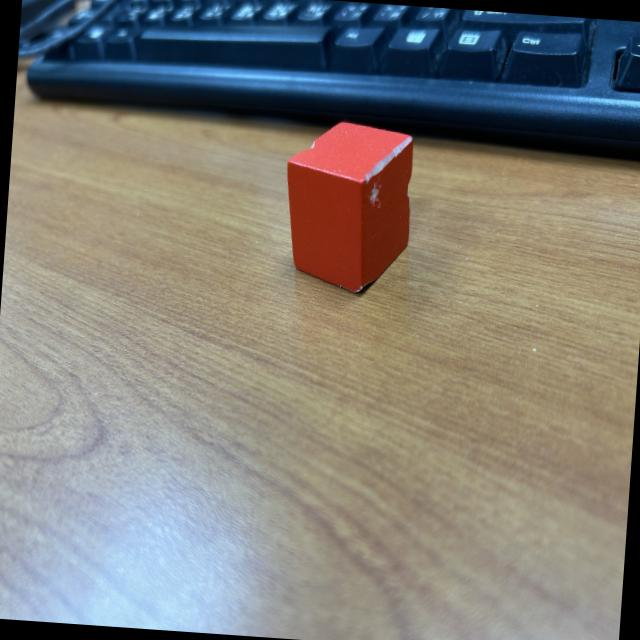broken: (276, 116, 418, 297)
